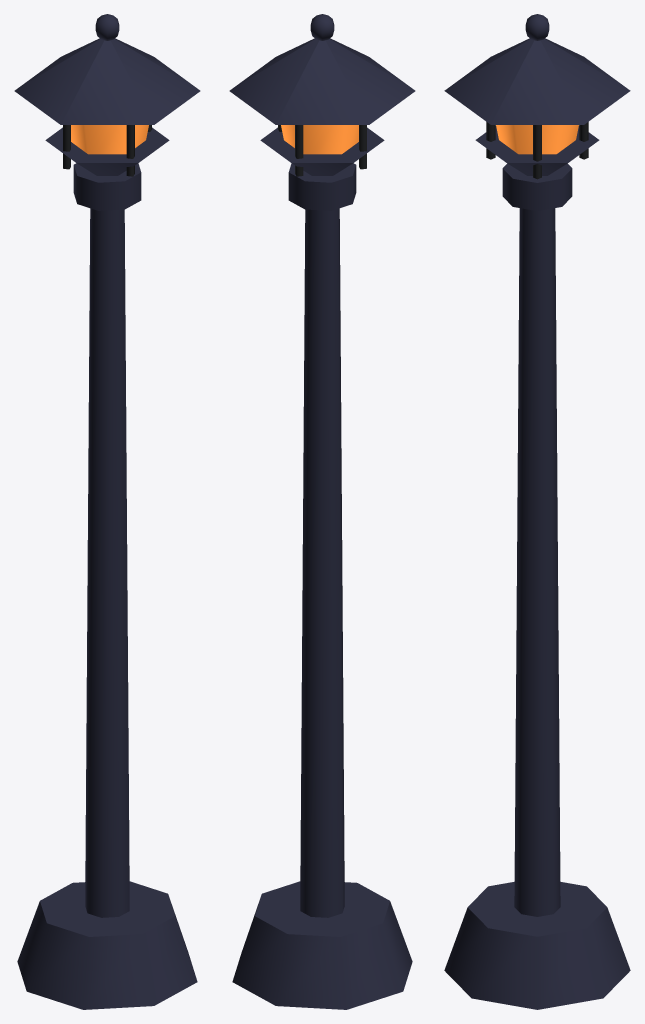
Rendered from station_lantern.glb.
3 renders of one model, left to right at view 1: azimuth 30°, elevation 25°; view 2: azimuth 150°, elevation 25°; view 3: azimuth 270°, elevation 25°, orthographic.
Parts seen in each view (by area): view 1: station_lantern, lantern_glass; view 2: station_lantern, lantern_glass; view 3: station_lantern, lantern_glass.
Part boxes in pixels (<box>): station_lantern: <box>14,14,200,1009</box>; lantern_glass: <box>71,125,148,154</box>; station_lantern: <box>229,14,415,1009</box>; lantern_glass: <box>281,125,358,154</box>; station_lantern: <box>444,14,630,1009</box>; lantern_glass: <box>496,125,578,154</box>.
Bounding box in the file's own units: 0.48 × 2.72 × 0.48.
